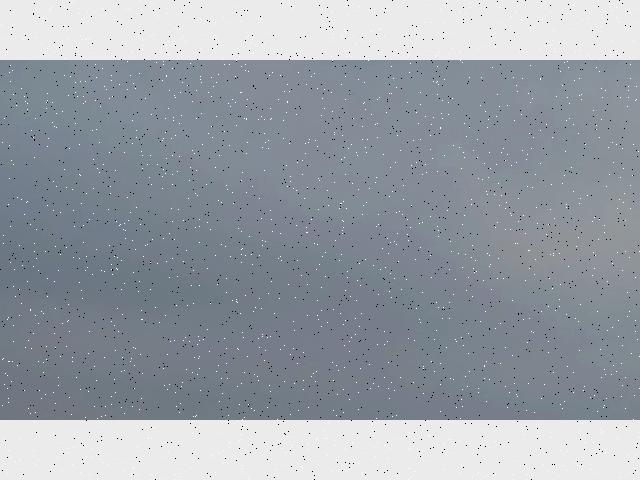Anti-Drone: (344, 92, 356, 94)
